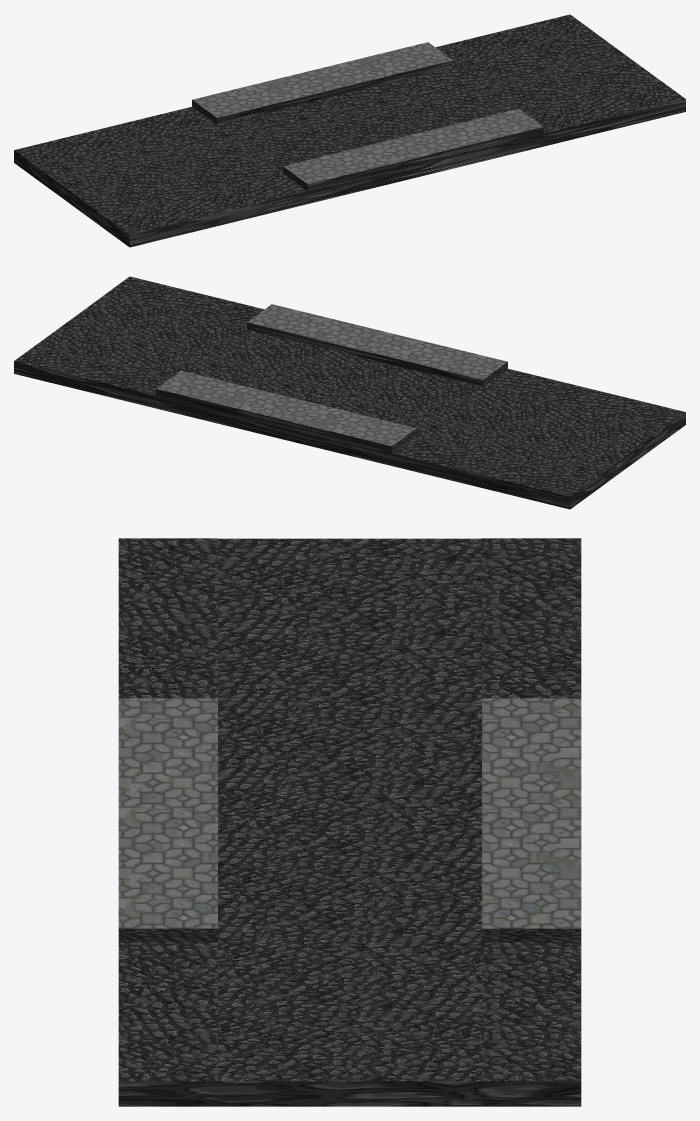
The model's file is road2Textured.fbx.
The picture shows the model from 3 angles, top to bottom: view 1: azimuth 30°, elevation 25°; view 2: azimuth 150°, elevation 25°; view 3: azimuth 270°, elevation 25°; orthographic projection. The views are drawn at different scales.
Visible parts, largest first — view 1: Cube.052; view 2: Cube.052; view 3: Cube.052.
Boxes of the visible parts, <box> form: Cube.052: <box>14,14,685,247</box>; Cube.052: <box>14,276,685,509</box>; Cube.052: <box>118,538,581,1106</box>.
Bounding box in the file's own units: 1289 × 43.57 × 464.
